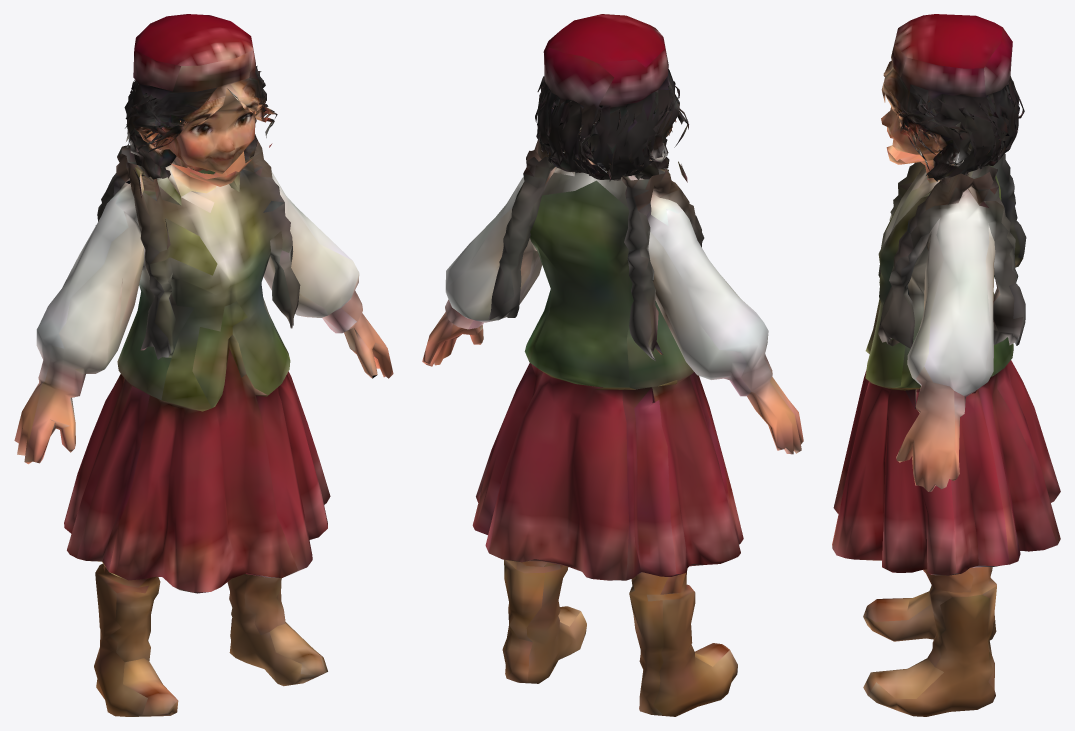
The model's file is child.gen.phone.glb.
3 renders of one model, left to right at view 1: azimuth 30°, elevation 25°; view 2: azimuth 150°, elevation 25°; view 3: azimuth 270°, elevation 25°, orthographic. The views are drawn at different scales.
Visible parts, largest first — view 1: child.raw; view 2: child.raw; view 3: child.raw.
Part boxes in pixels (x1,y1,x2,y2): child.raw: (14,14,393,716); child.raw: (422,14,803,716); child.raw: (832,14,1060,716).
Bounding box in the file's own units: 0.6729 × 1.15 × 0.3693.
Materials: 1 (1 with a texture image).
